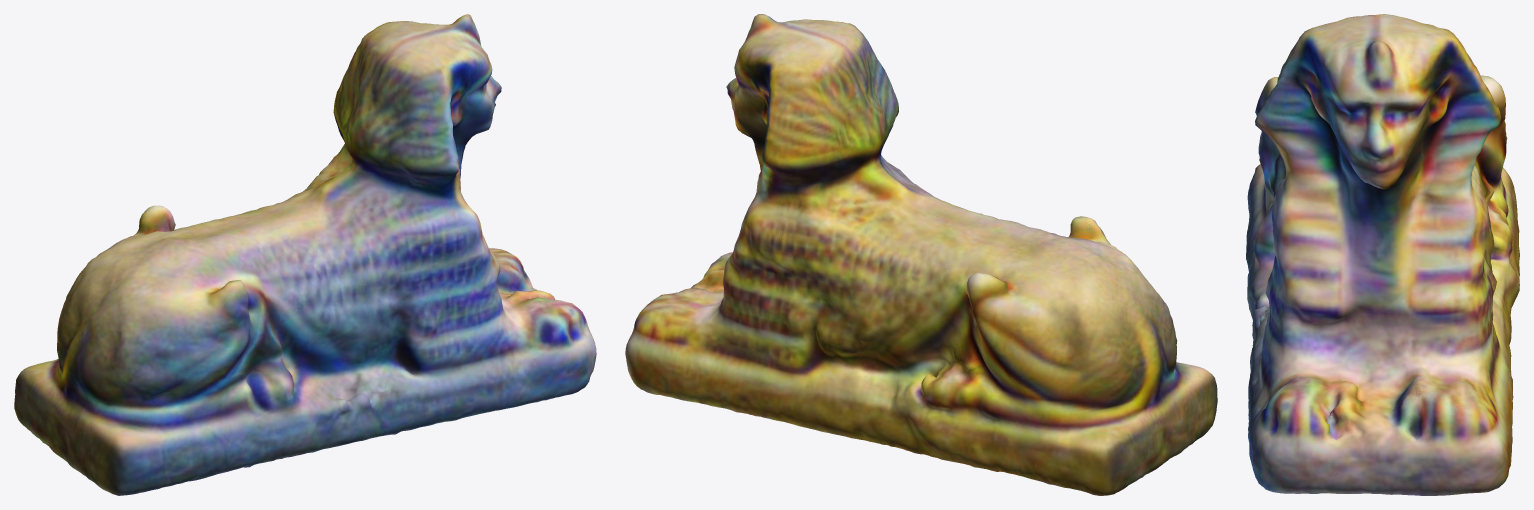
Rendered from card_4.glb.
3 views of the same model, side by side, from view 1: azimuth 30°, elevation 25°; view 2: azimuth 150°, elevation 25°; view 3: azimuth 270°, elevation 25° (orthographic). The views are drawn at different scales.
Visible parts, largest first — view 1: Mesh1; view 2: Mesh1; view 3: Mesh1.
Boxes of the visible parts, left/top/right/bottom form: Mesh1: left=14, top=14, right=596, bottom=495; Mesh1: left=625, top=14, right=1217, bottom=495; Mesh1: left=1246, top=14, right=1519, bottom=495.
Size of the model in its own units: 1.2 by 0.832 by 0.4926.
Materials: 1 (1 with a texture image).
